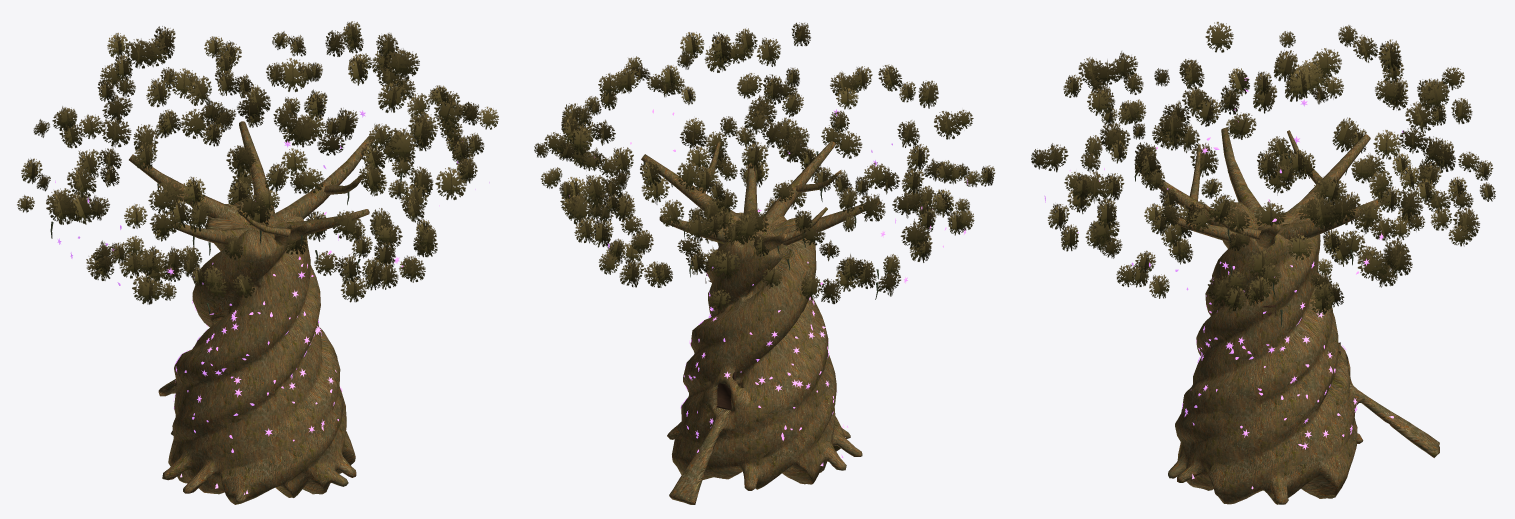
Rendered from old_oak_lod1.gltf.
The picture shows the model from 3 angles, left to right: view 1: azimuth 30°, elevation 25°; view 2: azimuth 150°, elevation 25°; view 3: azimuth 270°, elevation 25°; orthographic projection. The views are drawn at different scales.
Parts seen in each view (by area): view 1: FoliageCards, Trunk, Branches, Flowers; view 2: FoliageCards, Trunk, Branches, Flowers; view 3: FoliageCards, Trunk, Branches, Flowers.
Part boxes in pixels (bbox=[...]): FoliageCards: bbox=[17, 21, 498, 304]; Trunk: bbox=[158, 201, 356, 504]; Branches: bbox=[129, 121, 374, 246]; Flowers: bbox=[55, 110, 489, 452]; FoliageCards: bbox=[534, 22, 995, 311]; Trunk: bbox=[667, 212, 862, 504]; Branches: bbox=[641, 141, 879, 252]; Flowers: bbox=[569, 109, 967, 452]; FoliageCards: bbox=[1031, 22, 1495, 314]; Trunk: bbox=[1168, 202, 1439, 504]; Branches: bbox=[1135, 128, 1386, 248]; Flowers: bbox=[1044, 77, 1403, 449].
Size of what is drawn, in the model's own units: 42.13 by 39.52 by 39.95.
10 materials, 4 textured.
